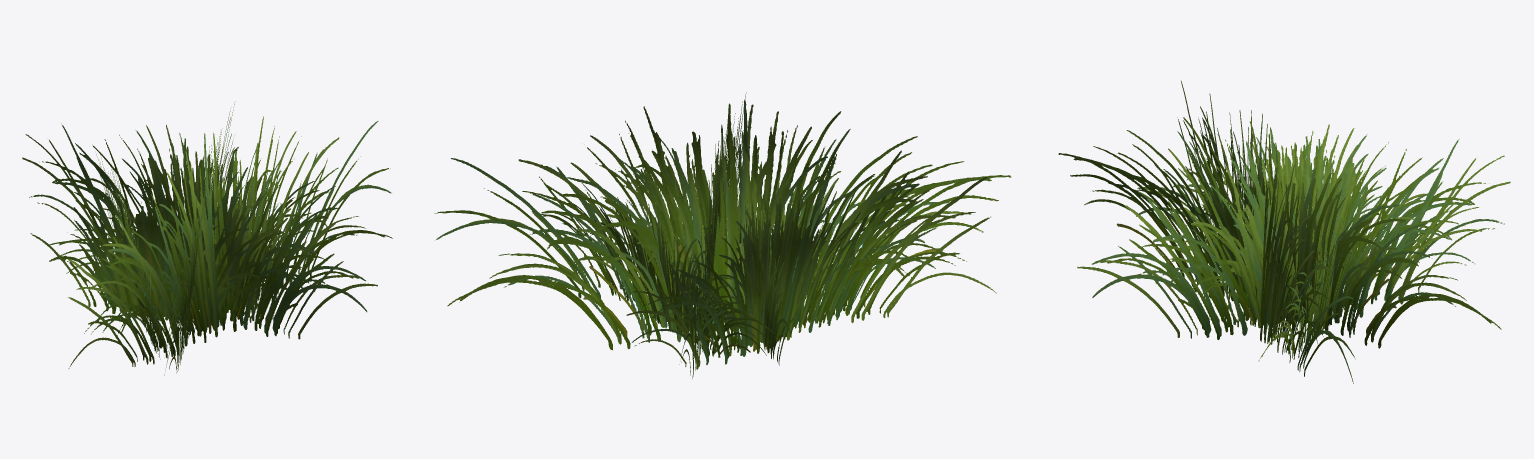
File: miracle-green-grass-1.glb
3 renders of one model, left to right at view 1: azimuth 30°, elevation 25°; view 2: azimuth 150°, elevation 25°; view 3: azimuth 270°, elevation 25°, orthographic. The views are drawn at different scales.
Parts seen in each view (by area): view 1: Grass large 1_GrassAtlas_0; view 2: Grass large 1_GrassAtlas_0; view 3: Grass large 1_GrassAtlas_0.
Part boxes in pixels (left/top/right/bottom): Grass large 1_GrassAtlas_0: left=22, top=101, right=392, bottom=375; Grass large 1_GrassAtlas_0: left=434, top=92, right=1011, bottom=378; Grass large 1_GrassAtlas_0: left=1058, top=81, right=1510, bottom=383.
Size of the model in its own units: 0.7958 by 0.38 by 0.7376.
Materials: 1 (1 with a texture image).
